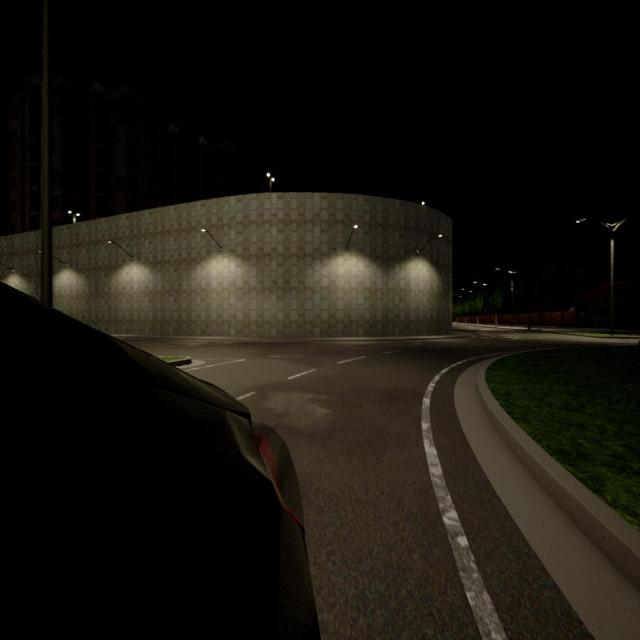Vehicle: (0, 286, 314, 640)
